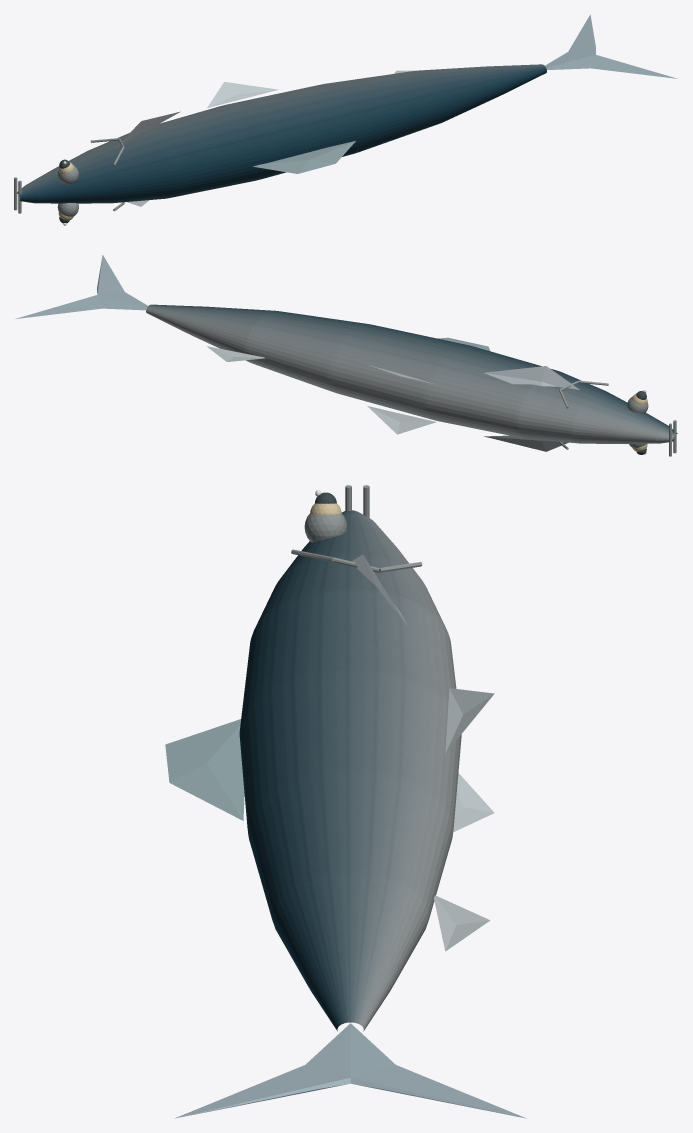
The model's file is Ikan_Tamban.glb.
3 views of the same model, one above another, from view 1: azimuth 30°, elevation 25°; view 2: azimuth 150°, elevation 25°; view 3: azimuth 270°, elevation 25° (orthographic). The views are drawn at different scales.
Visible parts, largest first — view 1: fish; view 2: fish; view 3: fish.
Part boxes in pixels (<box>): fish: <box>14,14,677,225</box>; fish: <box>14,255,677,456</box>; fish: <box>165,485,526,1118</box>.
Bounding box in the file's own units: 3.46 × 0.46 × 0.88.
1 material, 1 textured.
